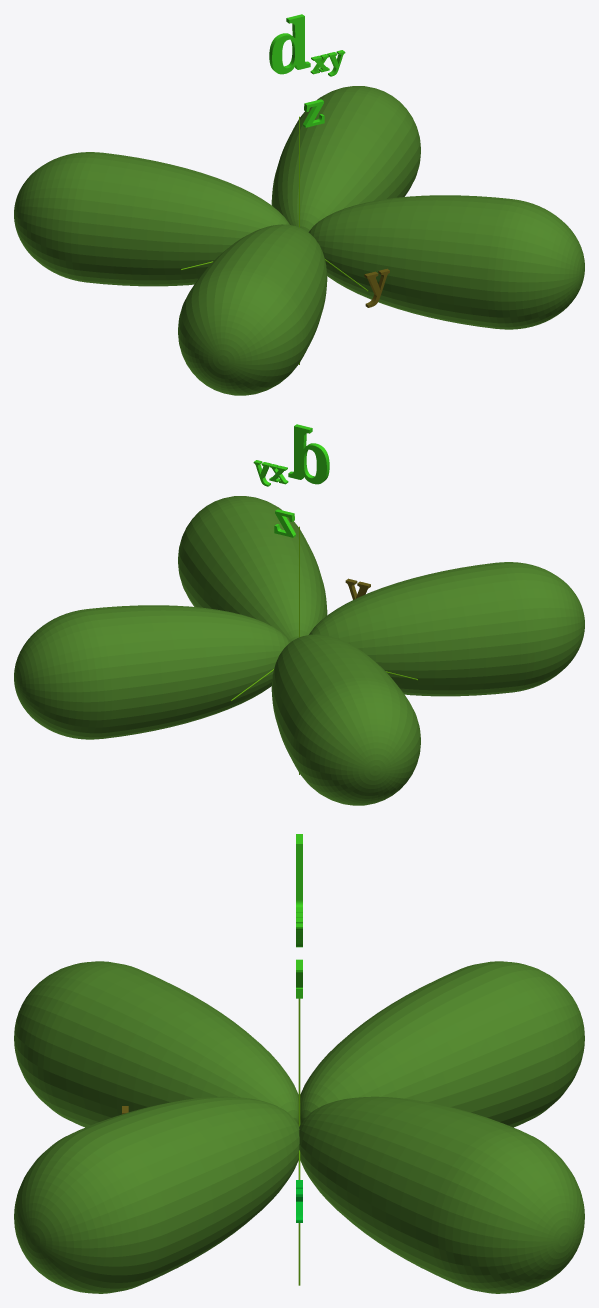
The model's file is dxy.glb.
The picture shows the model from 3 angles, top to bottom: view 1: azimuth 30°, elevation 25°; view 2: azimuth 150°, elevation 25°; view 3: azimuth 270°, elevation 25°; orthographic projection. The views are drawn at different scales.
Parts seen in each view (by area): view 1: Mesh_Mesh_head_geo001_lambert2SG001; view 2: Mesh_Mesh_head_geo001_lambert2SG001; view 3: Mesh_Mesh_head_geo001_lambert2SG001.
Boxes of the visible parts, left/top/right/bottom form: Mesh_Mesh_head_geo001_lambert2SG001: left=14, top=14, right=584, bottom=395; Mesh_Mesh_head_geo001_lambert2SG001: left=14, top=424, right=584, bottom=805; Mesh_Mesh_head_geo001_lambert2SG001: left=14, top=834, right=584, bottom=1293.
Size of the model in its own units: 81.96 by 70.34 by 81.96.
